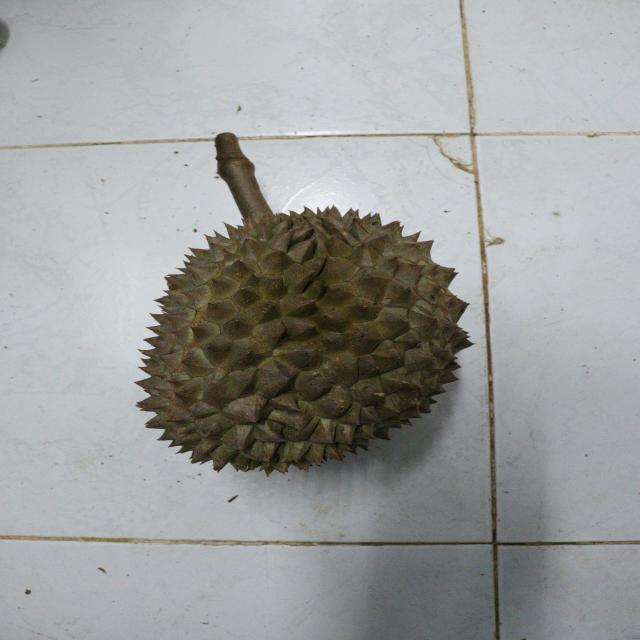mature: (138, 205, 483, 479)
